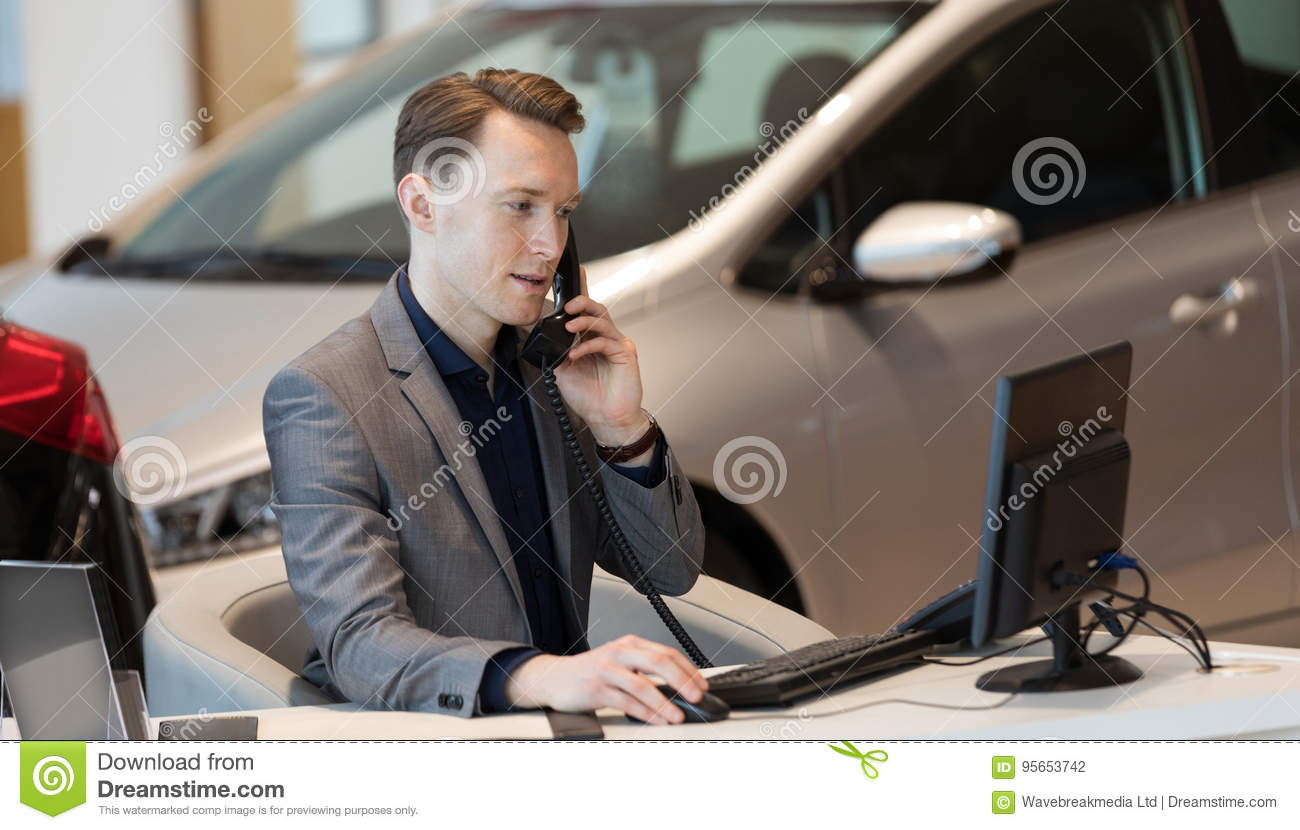talk: (475, 173, 646, 436)
